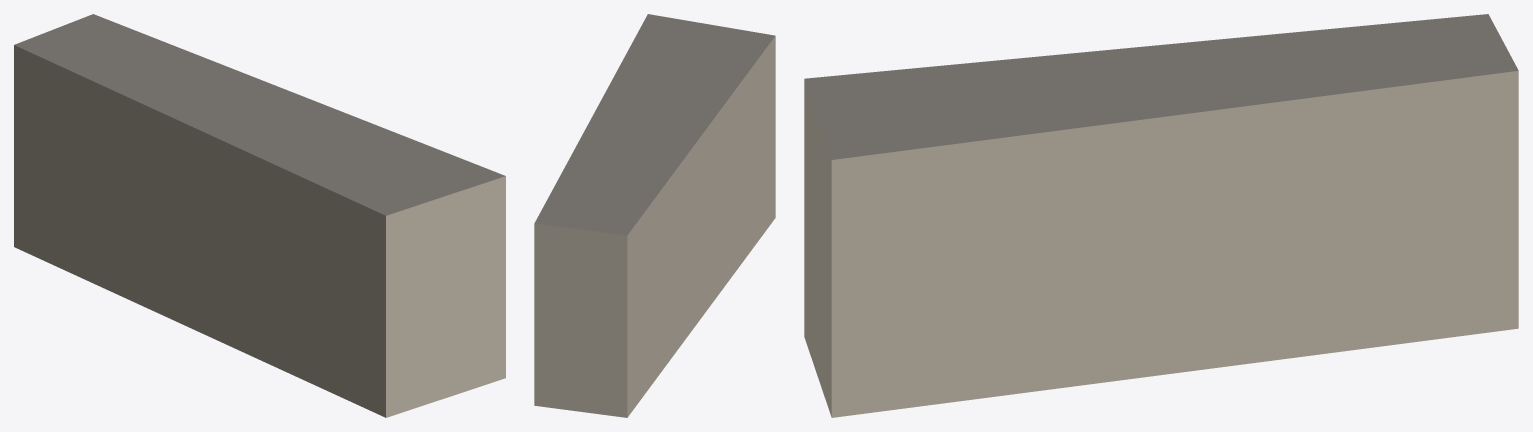
3 views of the same model, side by side, from view 1: azimuth 30°, elevation 25°; view 2: azimuth 150°, elevation 25°; view 3: azimuth 270°, elevation 25° (orthographic). The views are drawn at different scales.
Visible parts, largest first — view 1: HP-w378107166; view 2: HP-w378107166; view 3: HP-w378107166.
Boxes of the visible parts, x1,y1,x2,y2 form: HP-w378107166: (14, 14, 505, 417); HP-w378107166: (534, 14, 775, 417); HP-w378107166: (804, 14, 1518, 417).
Bounding box in the file's own units: 18.22 × 15 × 37.66.
